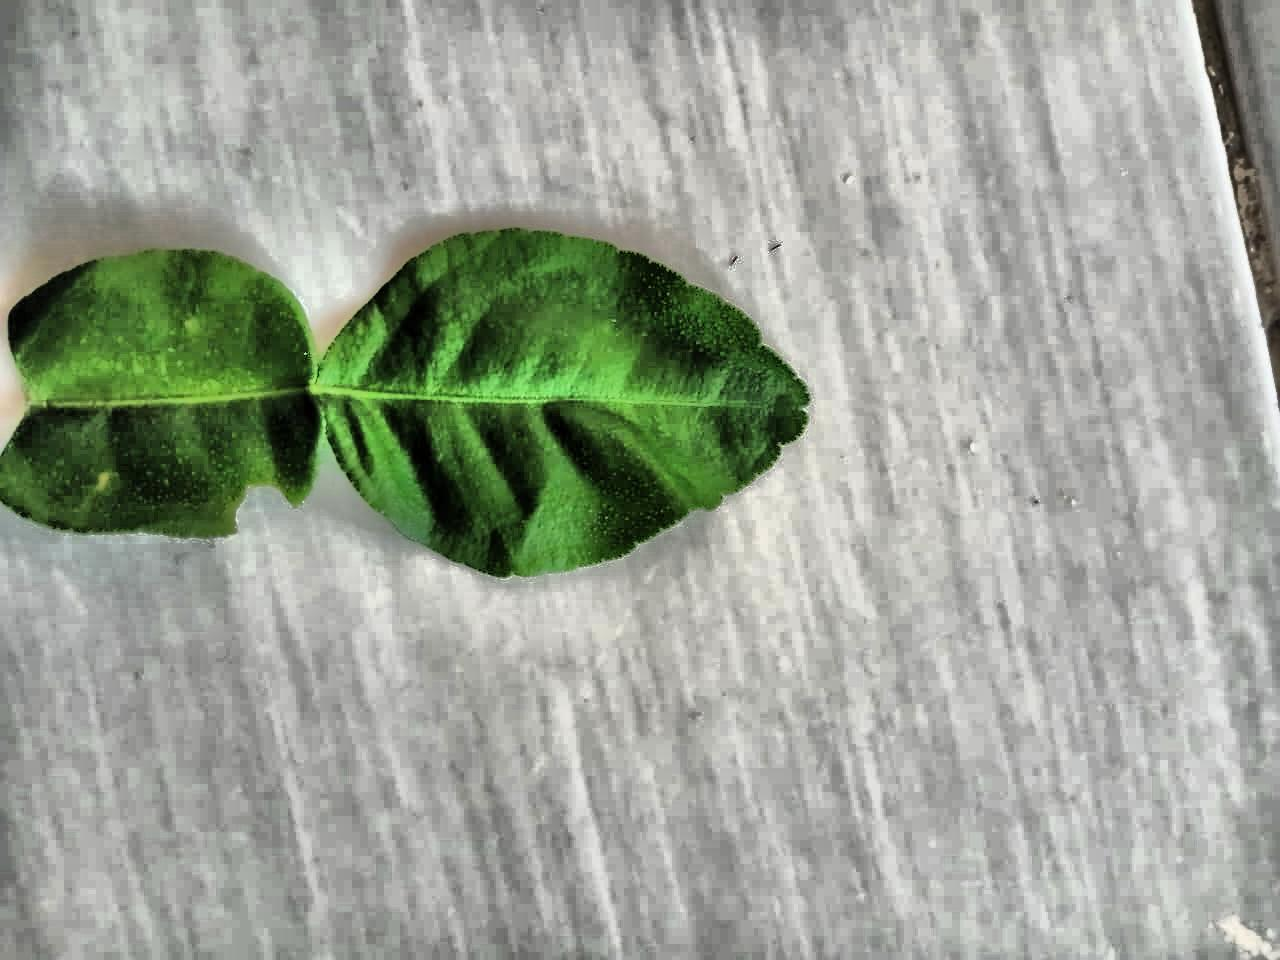daun jeruk: (0, 230, 808, 576)
